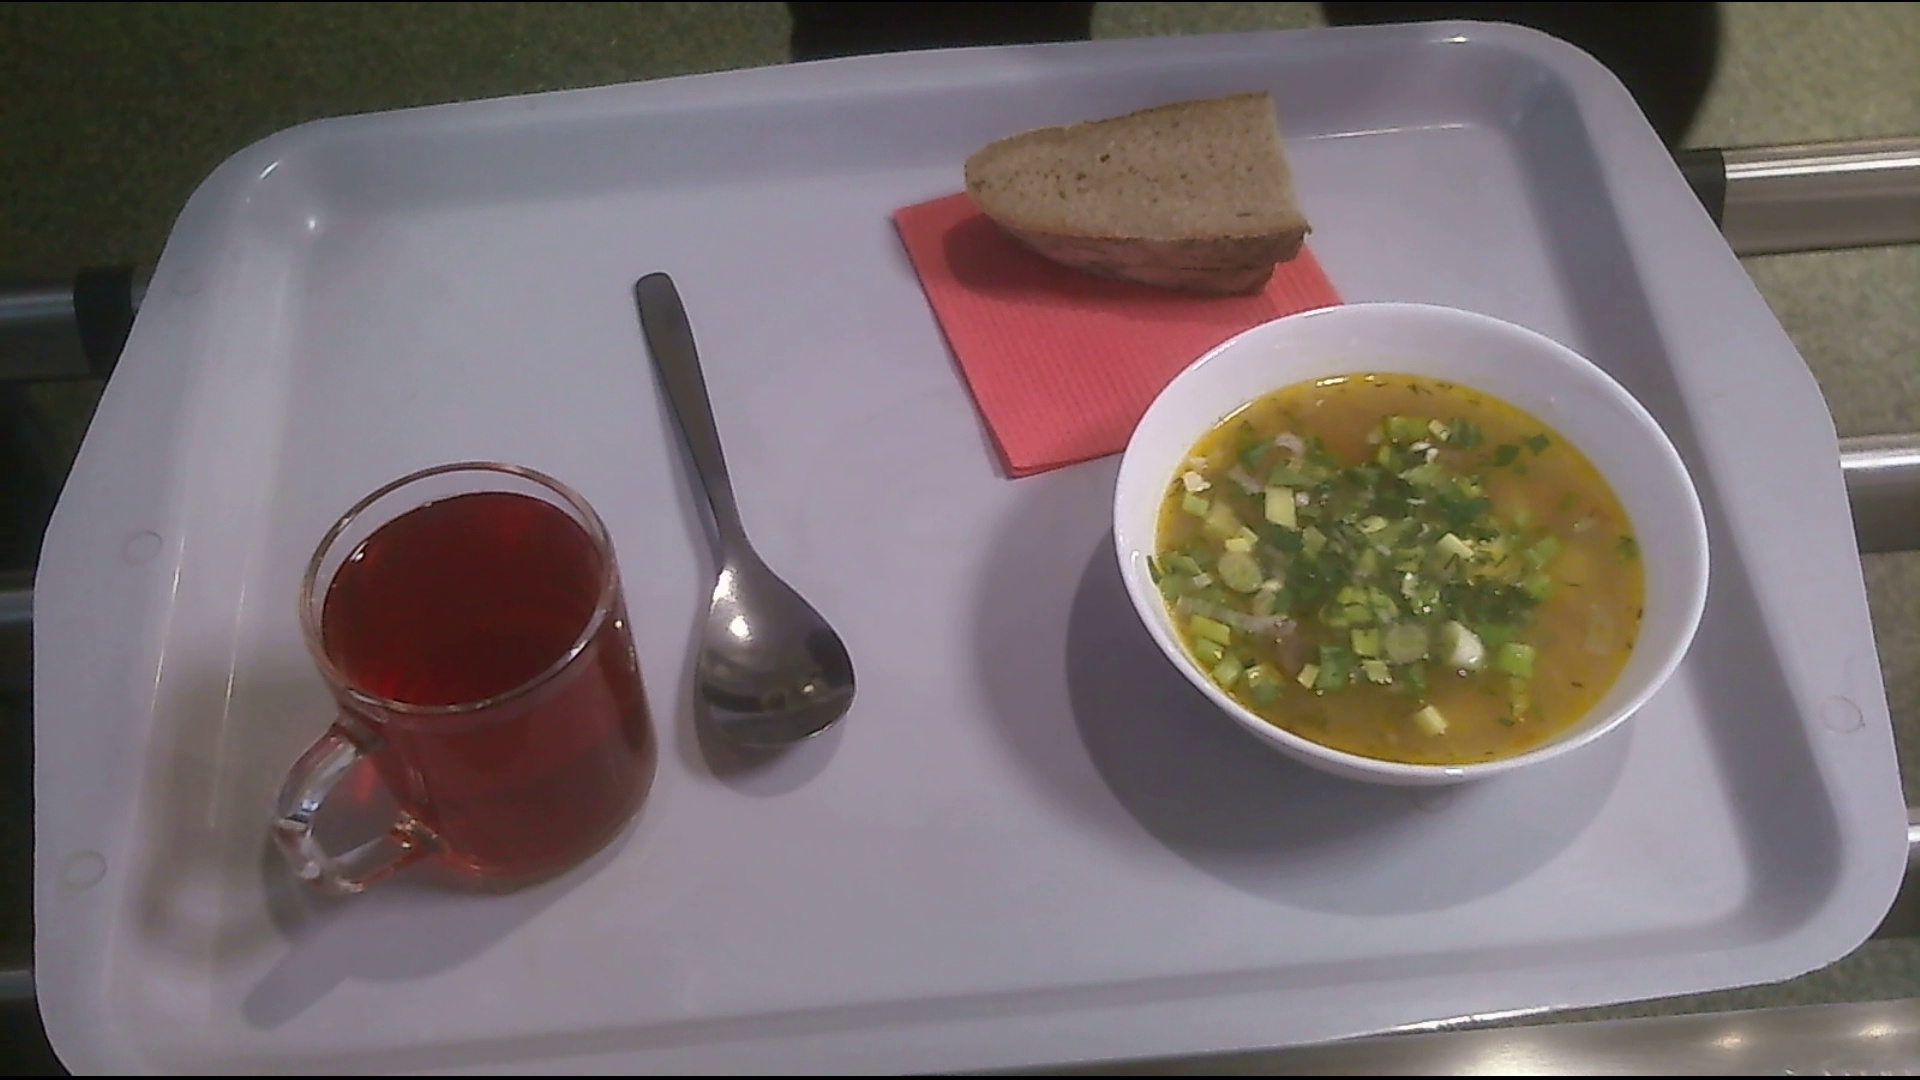bowl: (1112, 313, 1710, 815)
cutlery: (628, 266, 870, 767)
drink: (272, 460, 659, 914)
other: (957, 96, 1312, 309)
